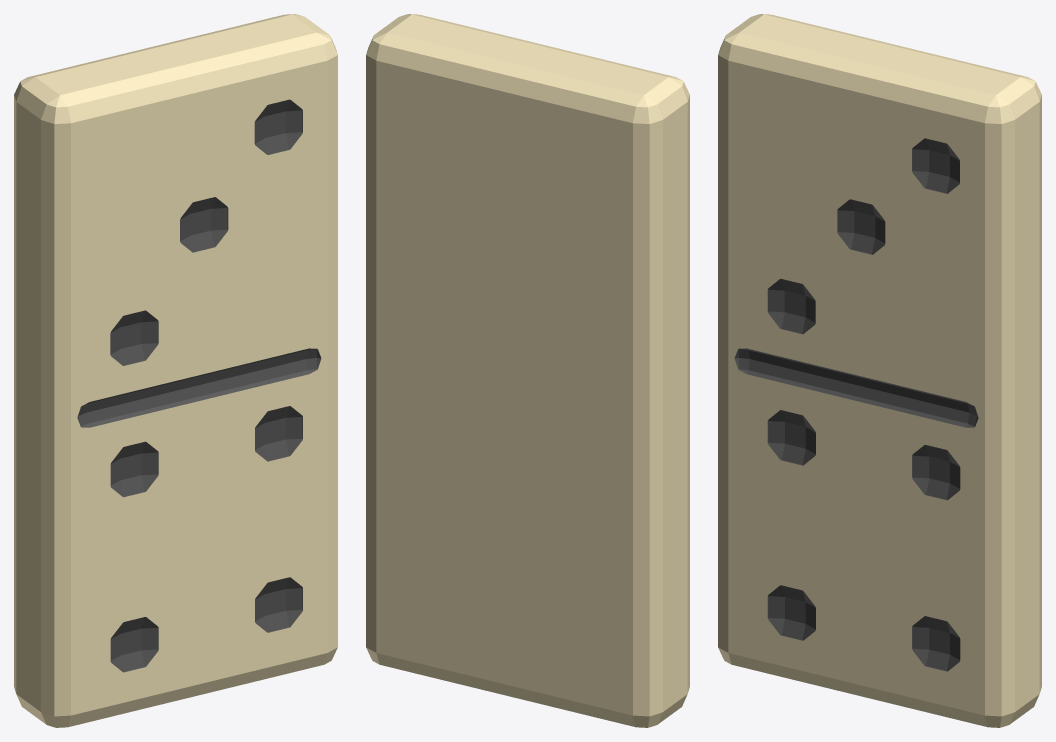
File: dominoes 4x3.fbx
The picture shows the model from 3 angles, left to right: view 1: azimuth 30°, elevation 25°; view 2: azimuth 150°, elevation 25°; view 3: azimuth 330°, elevation 25°; orthographic projection.
Parts seen in each view (by area): view 1: Boole_18; view 2: Boole_18; view 3: Boole_18.
Part boxes in pixels (left/top/right/bottom): Boole_18: left=14, top=14, right=337, bottom=727; Boole_18: left=366, top=14, right=689, bottom=727; Boole_18: left=718, top=14, right=1041, bottom=727.
Size of the model in its own units: 200 by 410 by 55.02.
